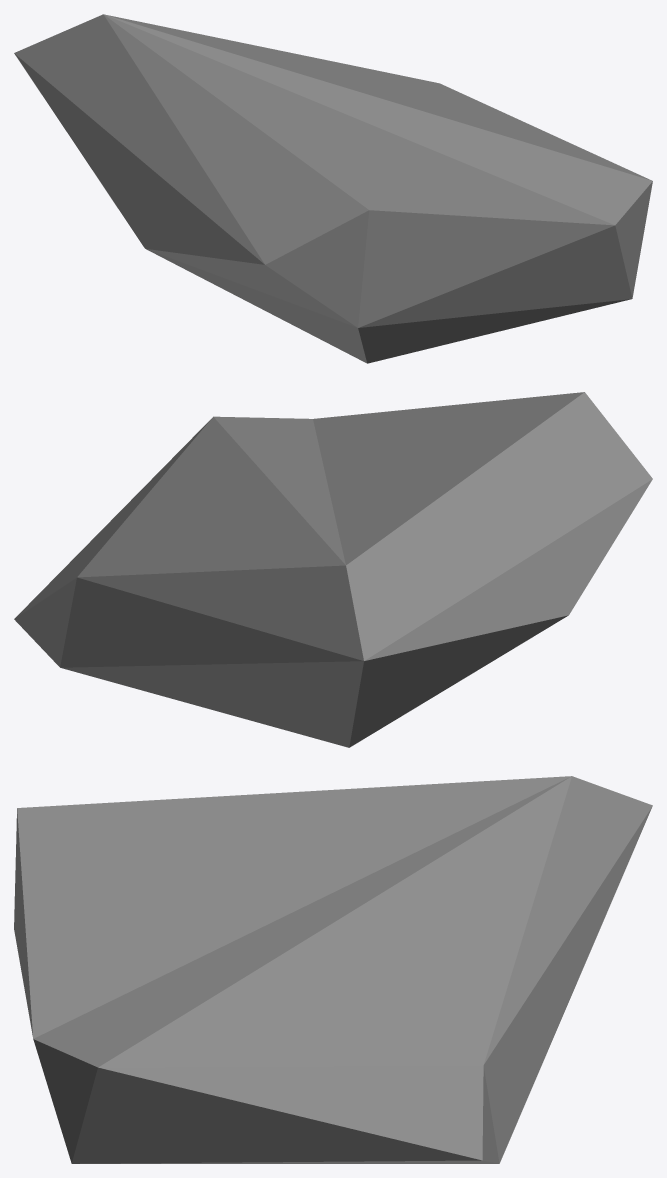
Rendered from rock_01_f.fbx.
3 renders of one model, top to bottom at view 1: azimuth 30°, elevation 25°; view 2: azimuth 150°, elevation 25°; view 3: azimuth 270°, elevation 25°, orthographic. The views are drawn at different scales.
Parts seen in each view (by area): view 1: Rock_01_f; view 2: Rock_01_f; view 3: Rock_01_f.
Part boxes in pixels (x1,y1,x2,y2): Rock_01_f: (14,14,652,363); Rock_01_f: (14,392,652,747); Rock_01_f: (14,776,652,1163).
Bounding box in the file's own units: 22.32 × 24.81 × 9.43.
